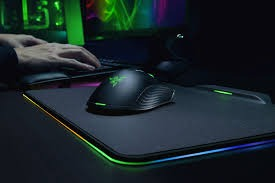mouse: (84, 65, 174, 117)
